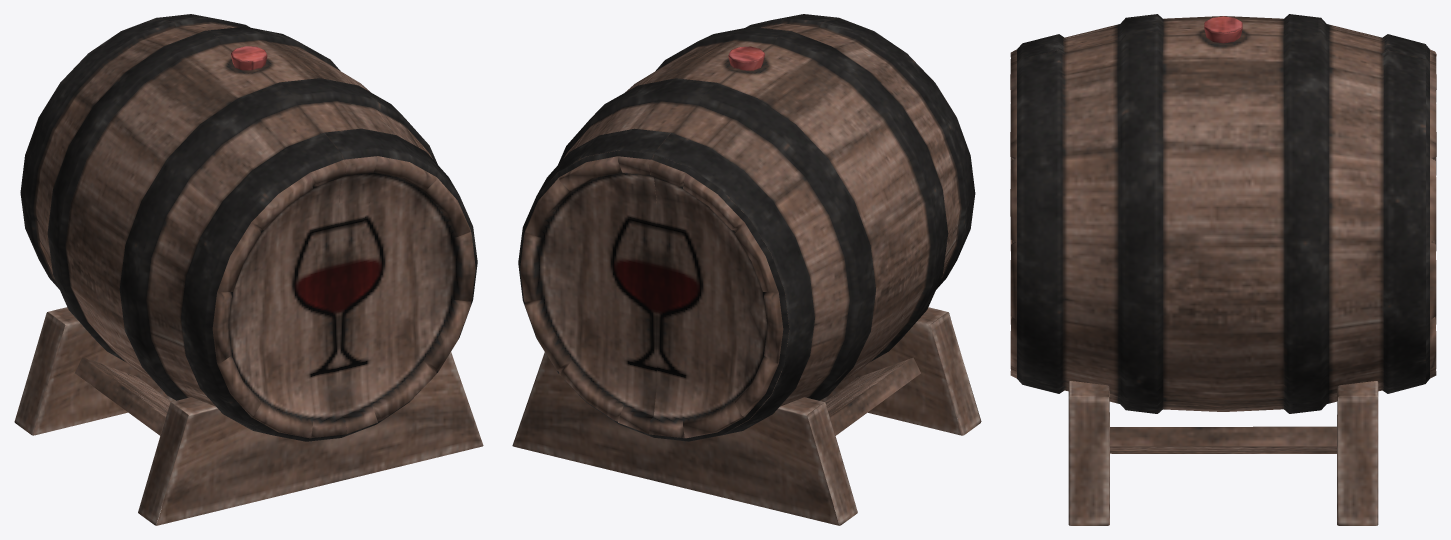
Rendered from BarrelAgingSmall.fbx.
3 views of the same model, side by side, from view 1: azimuth 30°, elevation 25°; view 2: azimuth 150°, elevation 25°; view 3: azimuth 270°, elevation 25° (orthographic). The views are drawn at different scales.
Parts seen in each view (by area): view 1: Barrel; view 2: Barrel; view 3: Barrel.
Boxes of the visible parts, x1=… form: Barrel: x1=14, y1=14, x2=483, y2=525; Barrel: x1=512, y1=14, x2=981, y2=525; Barrel: x1=1010, y1=14, x2=1436, y2=525.
Bounding box in the file's own units: 0.2419 × 0.2679 × 0.2497.
